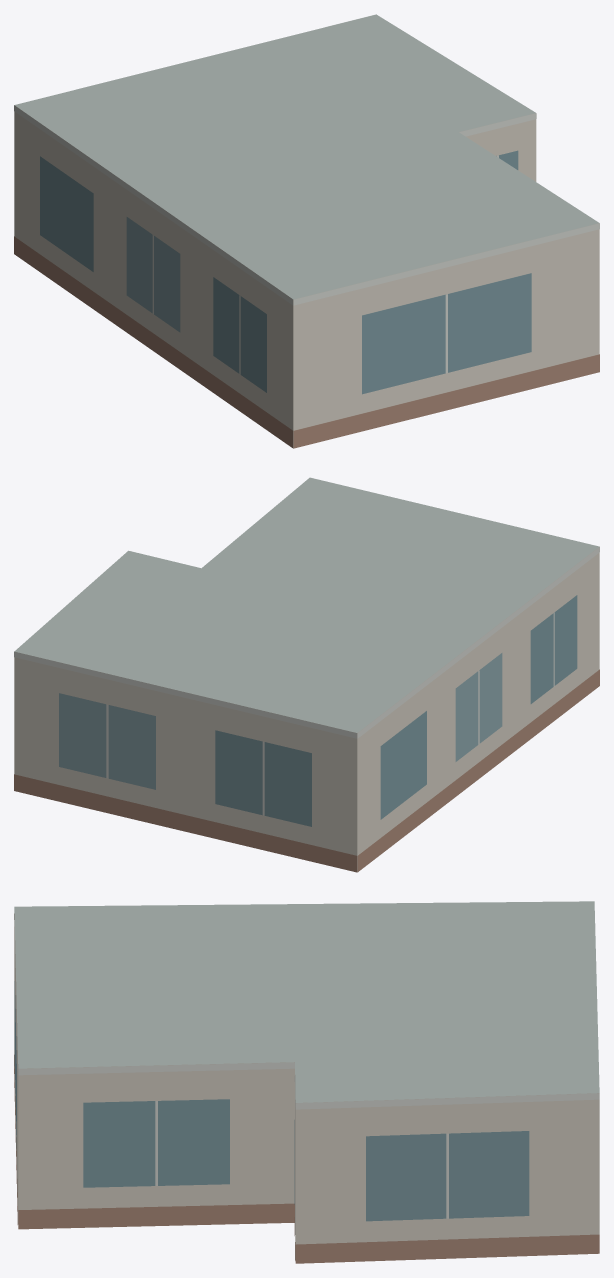
File: survey-upis-32932839.glb
3 renders of one model, top to bottom at view 1: azimuth 30°, elevation 25°; view 2: azimuth 150°, elevation 25°; view 3: azimuth 270°, elevation 25°, orthographic. The views are drawn at different scales.
Parts seen in each view (by area): view 1: survey-upis-32932839.tmp; view 2: survey-upis-32932839.tmp; view 3: survey-upis-32932839.tmp.
Part boxes in pixels (x1,y1,x2,y2): survey-upis-32932839.tmp: (14, 14, 599, 448); survey-upis-32932839.tmp: (14, 477, 599, 872); survey-upis-32932839.tmp: (14, 901, 599, 1263).
Size of the model in its own units: 8.23 by 3.05 by 10.09.
